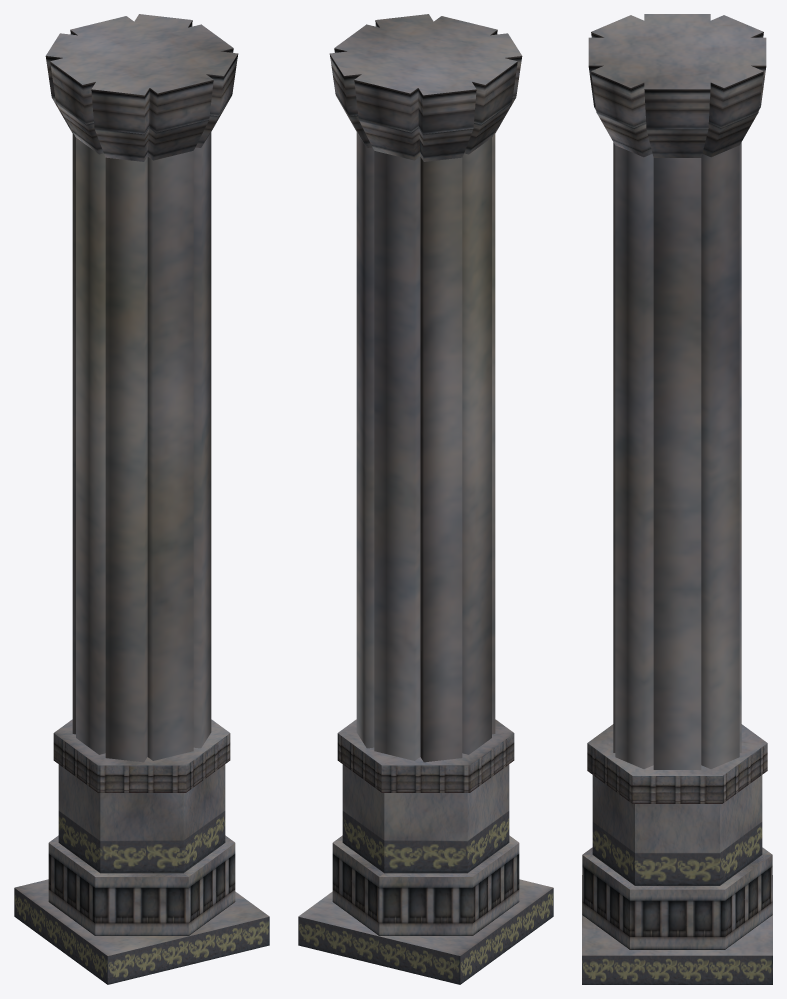
Rendered from column_small_01.glb.
The picture shows the model from 3 angles, left to right: view 1: azimuth 30°, elevation 25°; view 2: azimuth 150°, elevation 25°; view 3: azimuth 270°, elevation 25°; orthographic projection.
Visible parts, largest first — view 1: column_small_01; view 2: column_small_01; view 3: column_small_01.
Boxes of the visible parts, left/top/right/bottom form: column_small_01: left=14, top=14, right=269, bottom=984; column_small_01: left=298, top=14, right=553, bottom=984; column_small_01: left=582, top=14, right=772, bottom=984.
Size of the model in its own units: 1.74 by 9.02 by 1.74.
1 material, 1 textured.
